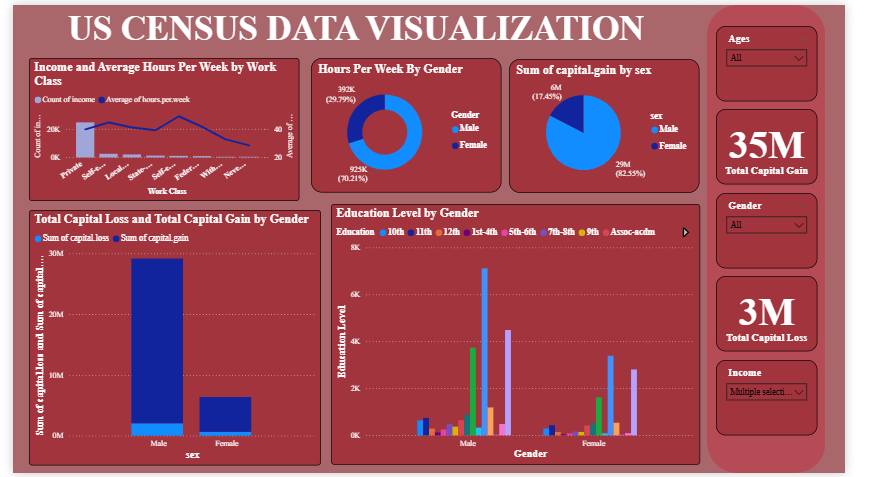

What the dashboard file says about the page in this screenshot:
{"tool":"powerbi","page":{"name":"US Census","canvas":[1280,720],"ordinal":0},"visuals":[{"type":"shape","box":[1068.2,0,182.2,720],"z":0},{"type":"slicer","fields":{"Values":["clean_us_census.age"]},"box":[1081.2,32.5,156.2,116.2],"z":1000},{"type":"card","fields":{"Values":["Sum(clean_us_census.capital.gain)"]},"box":[1081.2,160,156.2,116.2],"z":2000},{"type":"slicer","fields":{"Values":["clean_us_census.sex"]},"box":[1081.2,288.8,156.2,116.2],"z":3000},{"type":"card","fields":{"Values":["Sum(clean_us_census.capital.loss)"]},"box":[1081.2,416.2,156.2,116.2],"z":4000},{"type":"slicer","fields":{"Values":["clean_us_census.income"]},"box":[1081.2,546.2,156.2,116.2],"z":5000},{"type":"textbox","box":[0,0,1055,82.5],"z":6000},{"type":"pieChart","fields":{"Y":["Sum(clean_us_census.capital.gain)"],"Category":["clean_us_census.sex"]},"box":[762.9,82.9,292.9,205.7],"z":7000},{"type":"donutChart","title":"Hours Per Week By Gender","fields":{"Y":["Sum(clean_us_census.hours.per.week)"],"Category":["clean_us_census.sex"]},"box":[458.6,81.4,292.9,207.1],"z":8000},{"type":"clusteredColumnChart","title":"Education Level by Gender ","fields":{"Category":["clean_us_census.sex"],"Y":["CountNonNull(clean_us_census.education)"],"Series":["clean_us_census.education"]},"box":[488.8,306.2,567.5,401.2],"z":11000},{"type":"lineStackedColumnComboChart","title":"Income and Average Hours Per Week by Work Class","fields":{"Category":["clean_us_census.workclass"],"Y2":["Avg(clean_us_census.hours.per.week)"],"Y":["CountNonNull(clean_us_census.income)"]},"box":[25,81.2,416.2,220],"z":12000},{"type":"lineStackedColumnComboChart","title":"Total Capital Loss and Total Capital Gain by Gender","fields":{"Y":["Sum(clean_us_census.capital.loss)","Sum(clean_us_census.capital.gain)"],"Category":["clean_us_census.sex"]},"box":[25,315,448.8,392.5],"z":12001}]}

Visuals, with their boxes in screenshot pixels (x1, y1, x2, y2):
shape: box(723, 11, 842, 476)
slicer - clean_us_census.age: box(731, 33, 833, 109)
card - Sum(clean_us_census.capital.gain): box(731, 116, 833, 192)
slicer - clean_us_census.sex: box(731, 200, 833, 276)
card - Sum(clean_us_census.capital.loss): box(731, 283, 833, 359)
slicer - clean_us_census.income: box(731, 368, 833, 444)
textbox: box(25, 11, 714, 65)
pieChart - Sum(clean_us_census.capital.gain) x clean_us_census.sex: box(523, 66, 715, 200)
"Hours Per Week By Gender" donutChart: box(325, 65, 516, 200)
"Education Level by Gender " clusteredColumnChart: box(344, 211, 715, 473)
"Income and Average Hours Per Week by Work Class" lineStackedColumnComboChart: box(41, 64, 313, 208)
"Total Capital Loss and Total Capital Gain by Gender" lineStackedColumnComboChart: box(41, 217, 335, 473)
